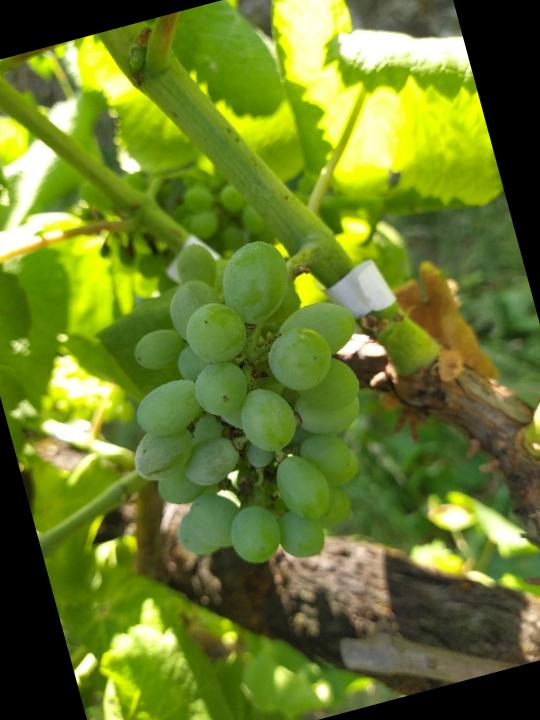grape: (81, 209, 418, 600)
